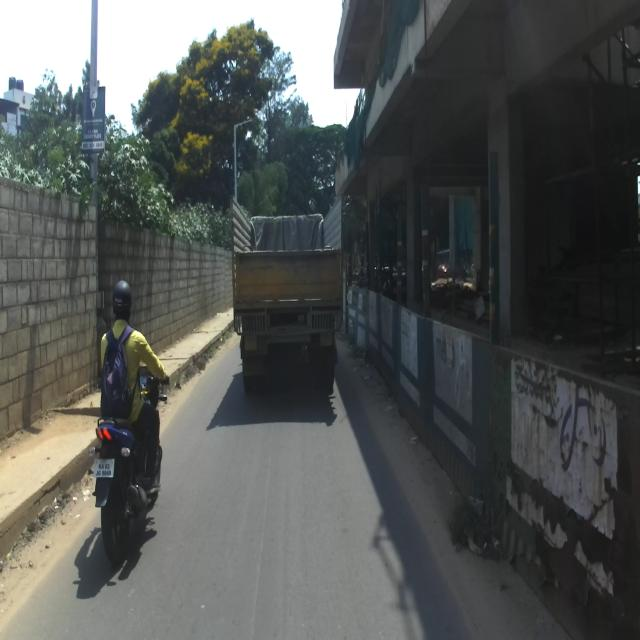motorcycle ahead at: (92, 402, 158, 560)
truck ahead at: (228, 190, 348, 408)
